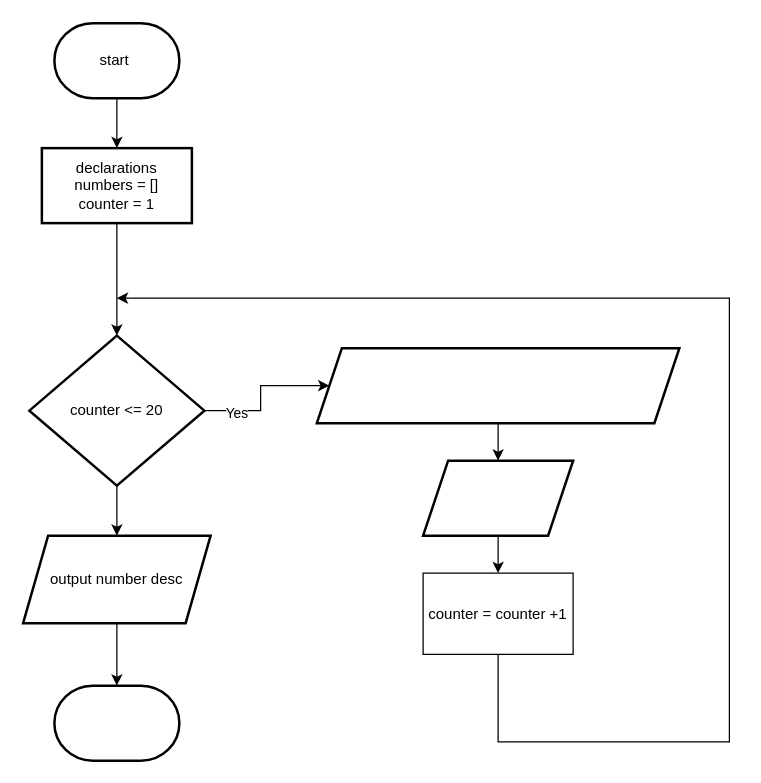
The diagram is 761 pixels wide and 783 high, and some of its shapes have lost their labels. Here are the shapes that lost their labels. From the top down, the centre of each, then its label:
pixel 497 385: output "Enter number " + counter
pixel 497 497: input number
pixel 116 722: end
